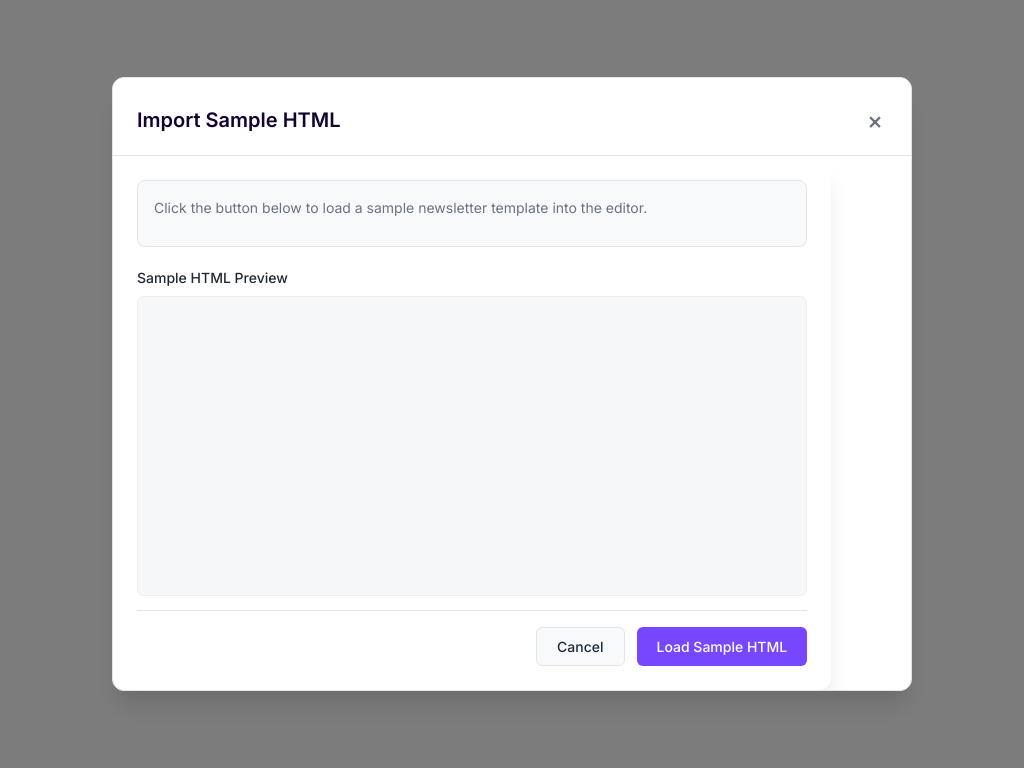
HtmlImportModal component › should handle unknown error type
The image size is (1024, 768).
Click the button "Load Sample HTML". click: click(722, 647)
box: top-left (636, 627), bottom-right (807, 666)
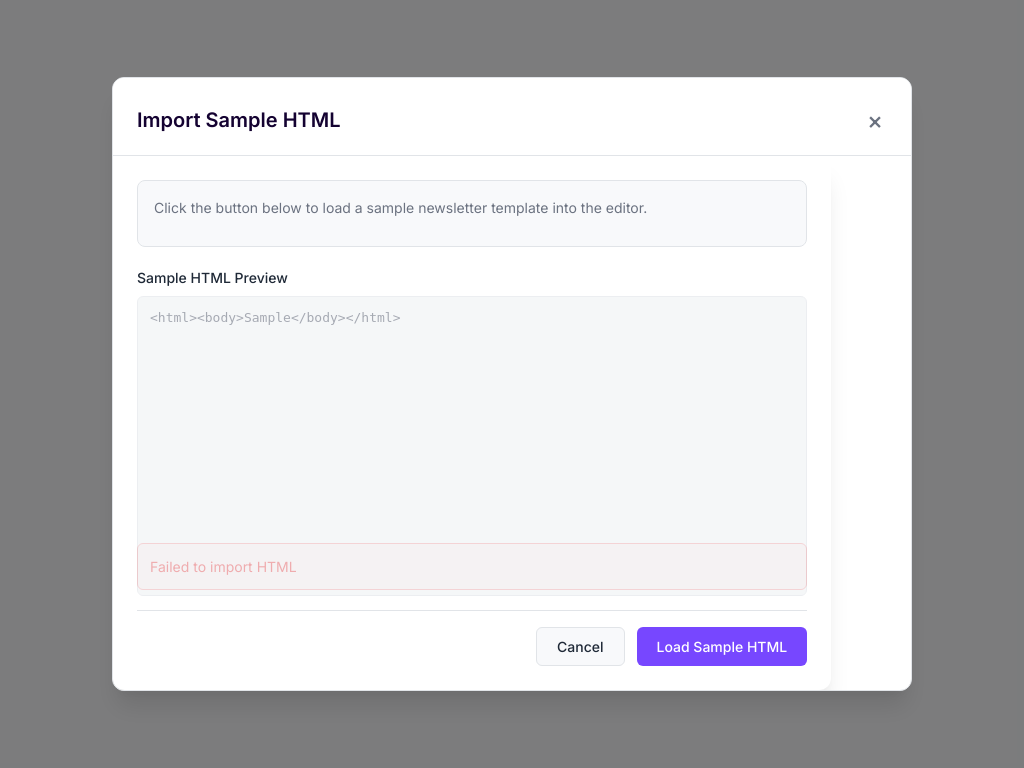
Check: the text "Failed to import HTML" is shown, box top-left (150, 558), bottom-right (297, 575)
